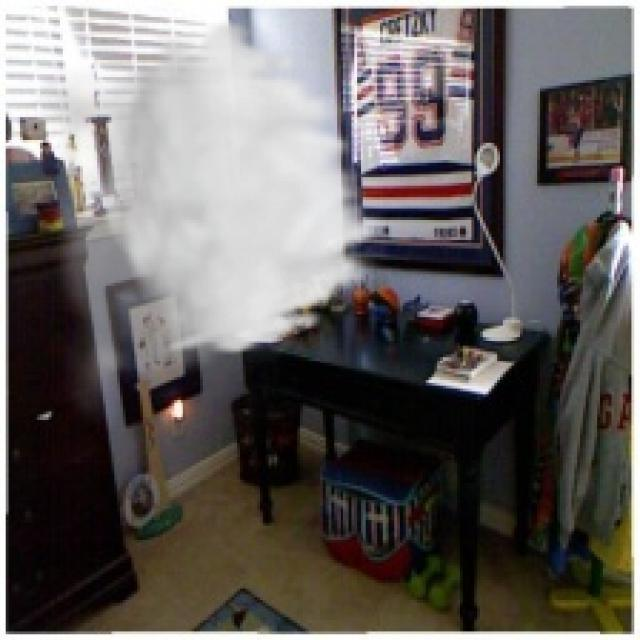Smoke: (29, 17, 392, 429)
